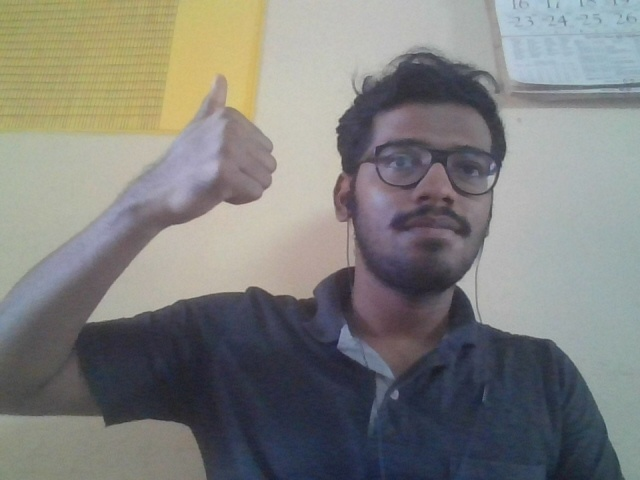ThumbsUp: (153, 74, 278, 221)
